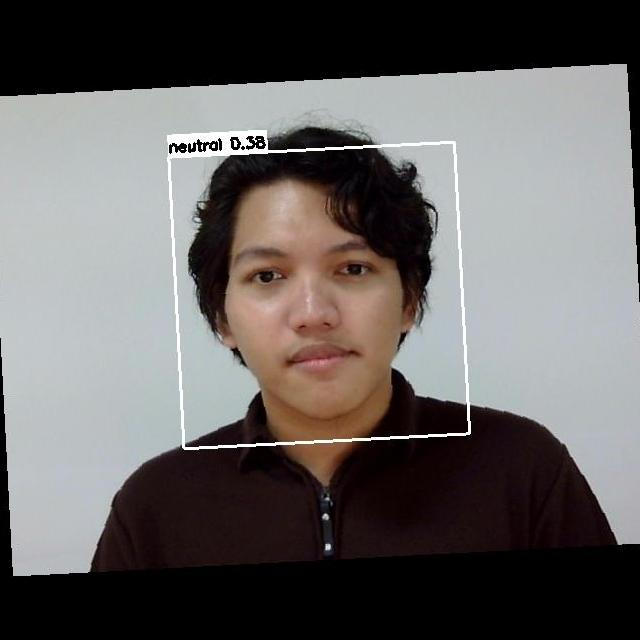Natural: (224, 233, 393, 388)
